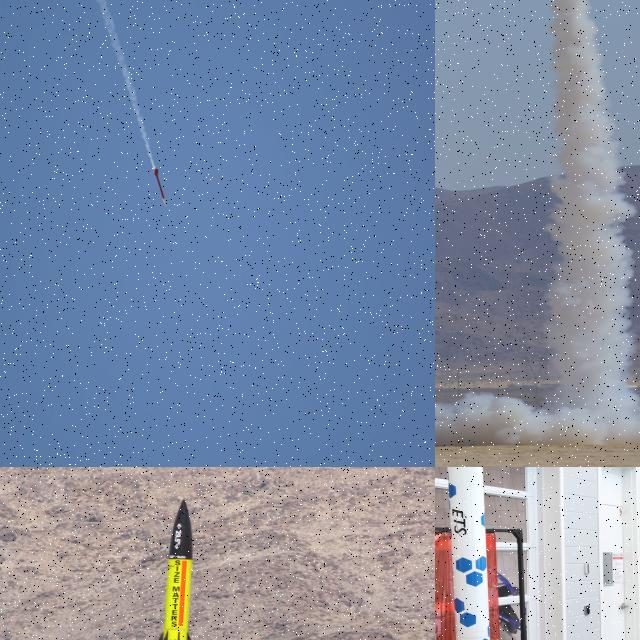Rocket: (144, 498, 204, 640), (447, 467, 490, 640), (153, 168, 167, 207)
